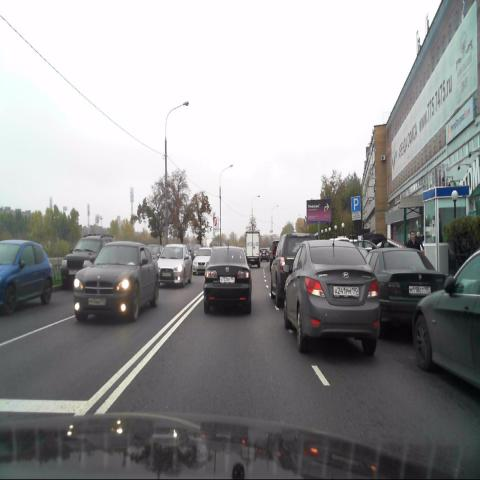6_4: (351, 195, 360, 212)
